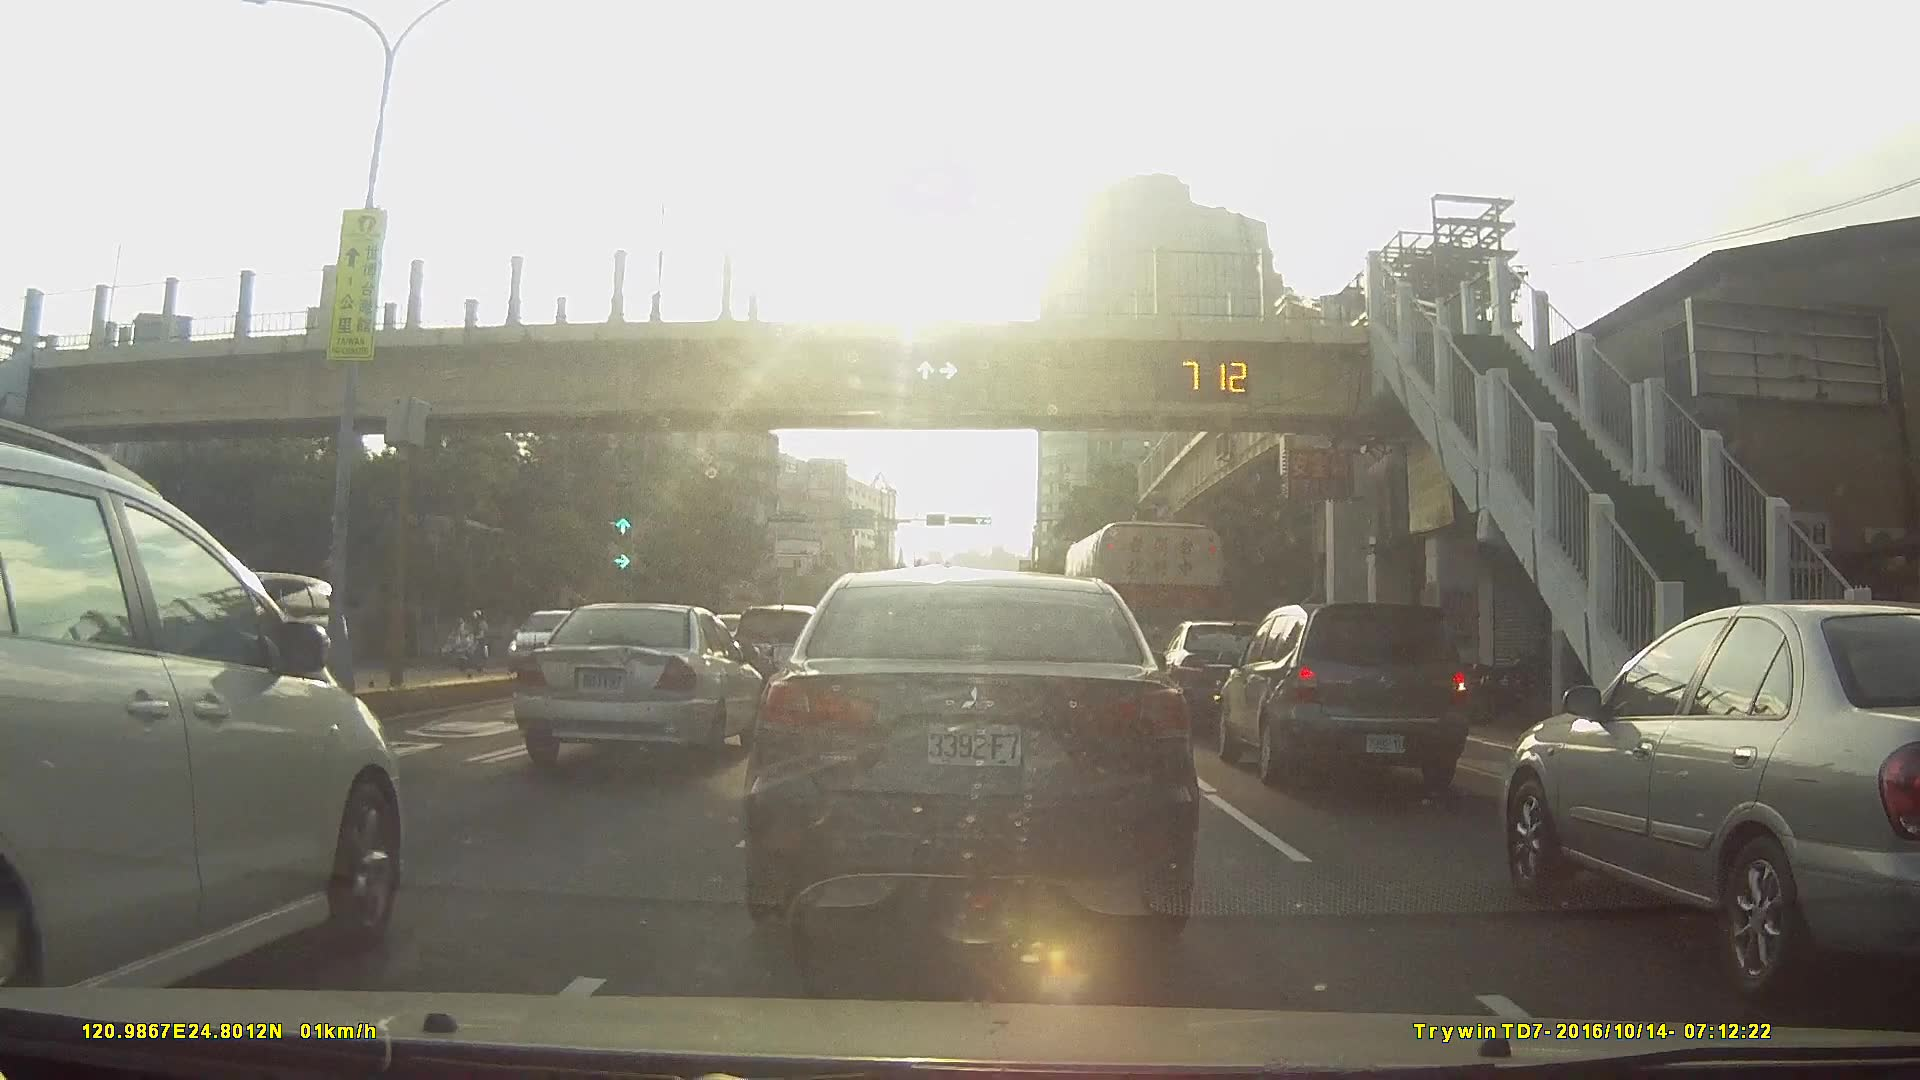rider: (450, 609, 491, 676)
vehicle: (0, 412, 419, 1028), (750, 563, 1198, 944), (1504, 598, 1920, 1005), (1216, 600, 1471, 790), (523, 602, 775, 764), (1158, 619, 1287, 725), (723, 601, 828, 705), (497, 607, 601, 674)
